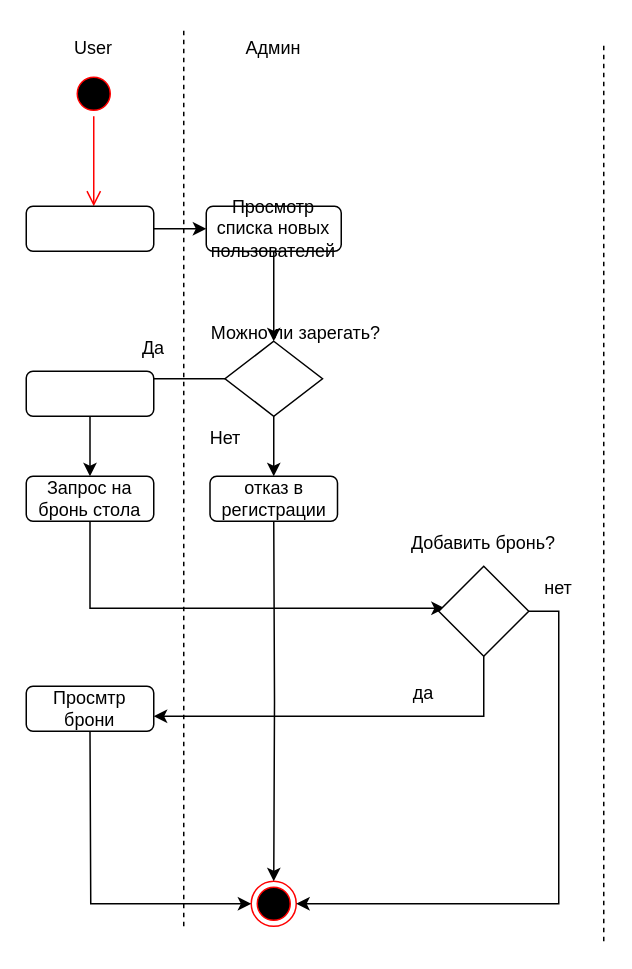
This 632x969 diagram has some shape labels left out. The shapes that lost their labels are listed below. From the top down, each one's box as (x1, y1, x2, y2) in pixels, then its label:
(25, 205, 154, 251): Заполнение рег. формы
(25, 370, 154, 416): Вход в аккаунт
